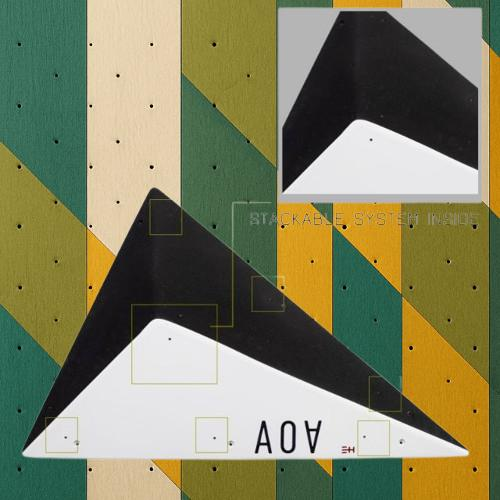Volume: (21, 186, 470, 460)
